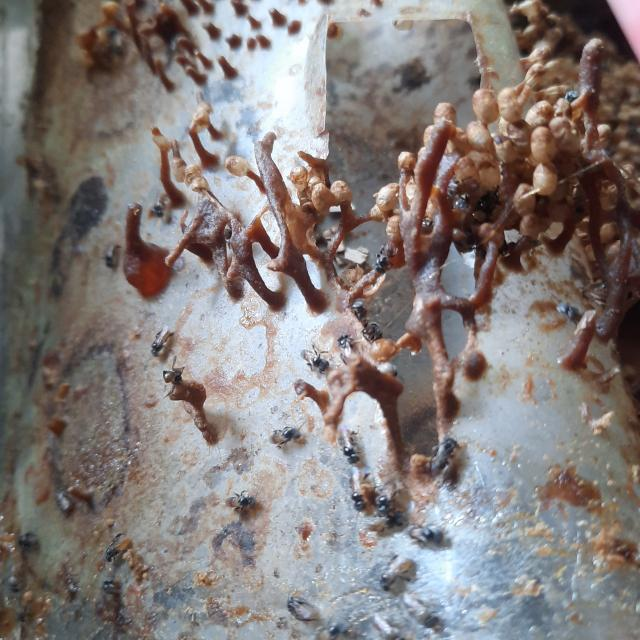honeybee: (380, 556, 413, 592), (405, 521, 445, 548), (103, 528, 133, 564), (281, 594, 317, 624), (349, 470, 372, 513), (296, 344, 330, 372), (432, 438, 460, 472), (266, 425, 301, 452), (552, 299, 586, 324), (156, 367, 191, 391), (151, 326, 174, 360), (338, 429, 360, 463), (444, 172, 470, 200), (374, 242, 394, 275), (51, 485, 72, 515), (221, 494, 254, 513), (101, 242, 122, 271), (310, 621, 342, 640), (335, 333, 355, 363), (151, 190, 171, 220), (378, 479, 393, 516), (454, 197, 478, 220), (350, 294, 370, 320), (101, 576, 116, 610), (18, 532, 41, 554), (361, 322, 380, 343), (62, 578, 84, 596), (560, 85, 580, 103)
